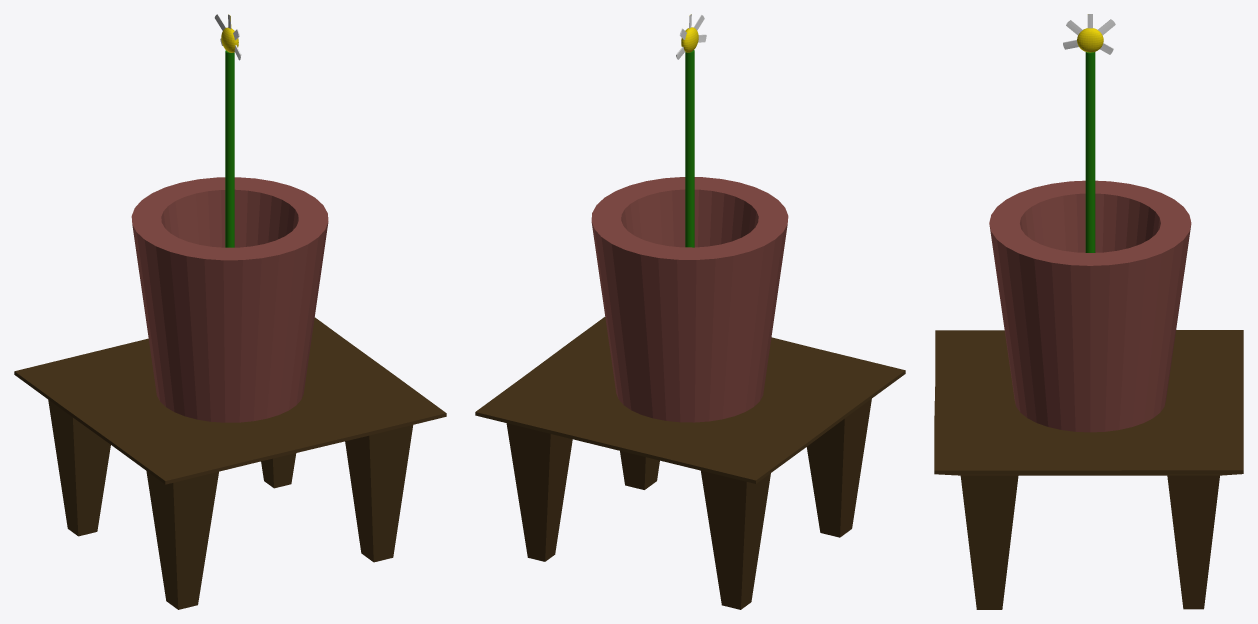
The model's file is FLOWERPOT.fbx.
The picture shows the model from 3 angles, left to right: view 1: azimuth 30°, elevation 25°; view 2: azimuth 150°, elevation 25°; view 3: azimuth 270°, elevation 25°; orthographic projection. The views are drawn at different scales.
Visible parts, largest first — view 1: Cube, Cylinder, Cylinder.001; view 2: Cube, Cylinder, Cylinder.001; view 3: Cylinder, Cube, Cylinder.001, Sphere.001, Sphere.
Boxes of the visible parts, box(x1,y1,x2,y2) form: Cube: box(14, 317, 446, 609); Cylinder: box(131, 177, 328, 422); Cylinder.001: box(225, 50, 234, 247); Cube: box(475, 317, 905, 609); Cylinder: box(591, 177, 788, 422); Cylinder.001: box(685, 50, 694, 247); Cylinder: box(989, 180, 1191, 432); Cube: box(934, 330, 1243, 609); Cylinder.001: box(1085, 52, 1095, 252); Sphere.001: box(1063, 14, 1115, 54); Sphere: box(1077, 28, 1103, 52).
Size of the model in its own units: 1086 by 1951 by 1010.
